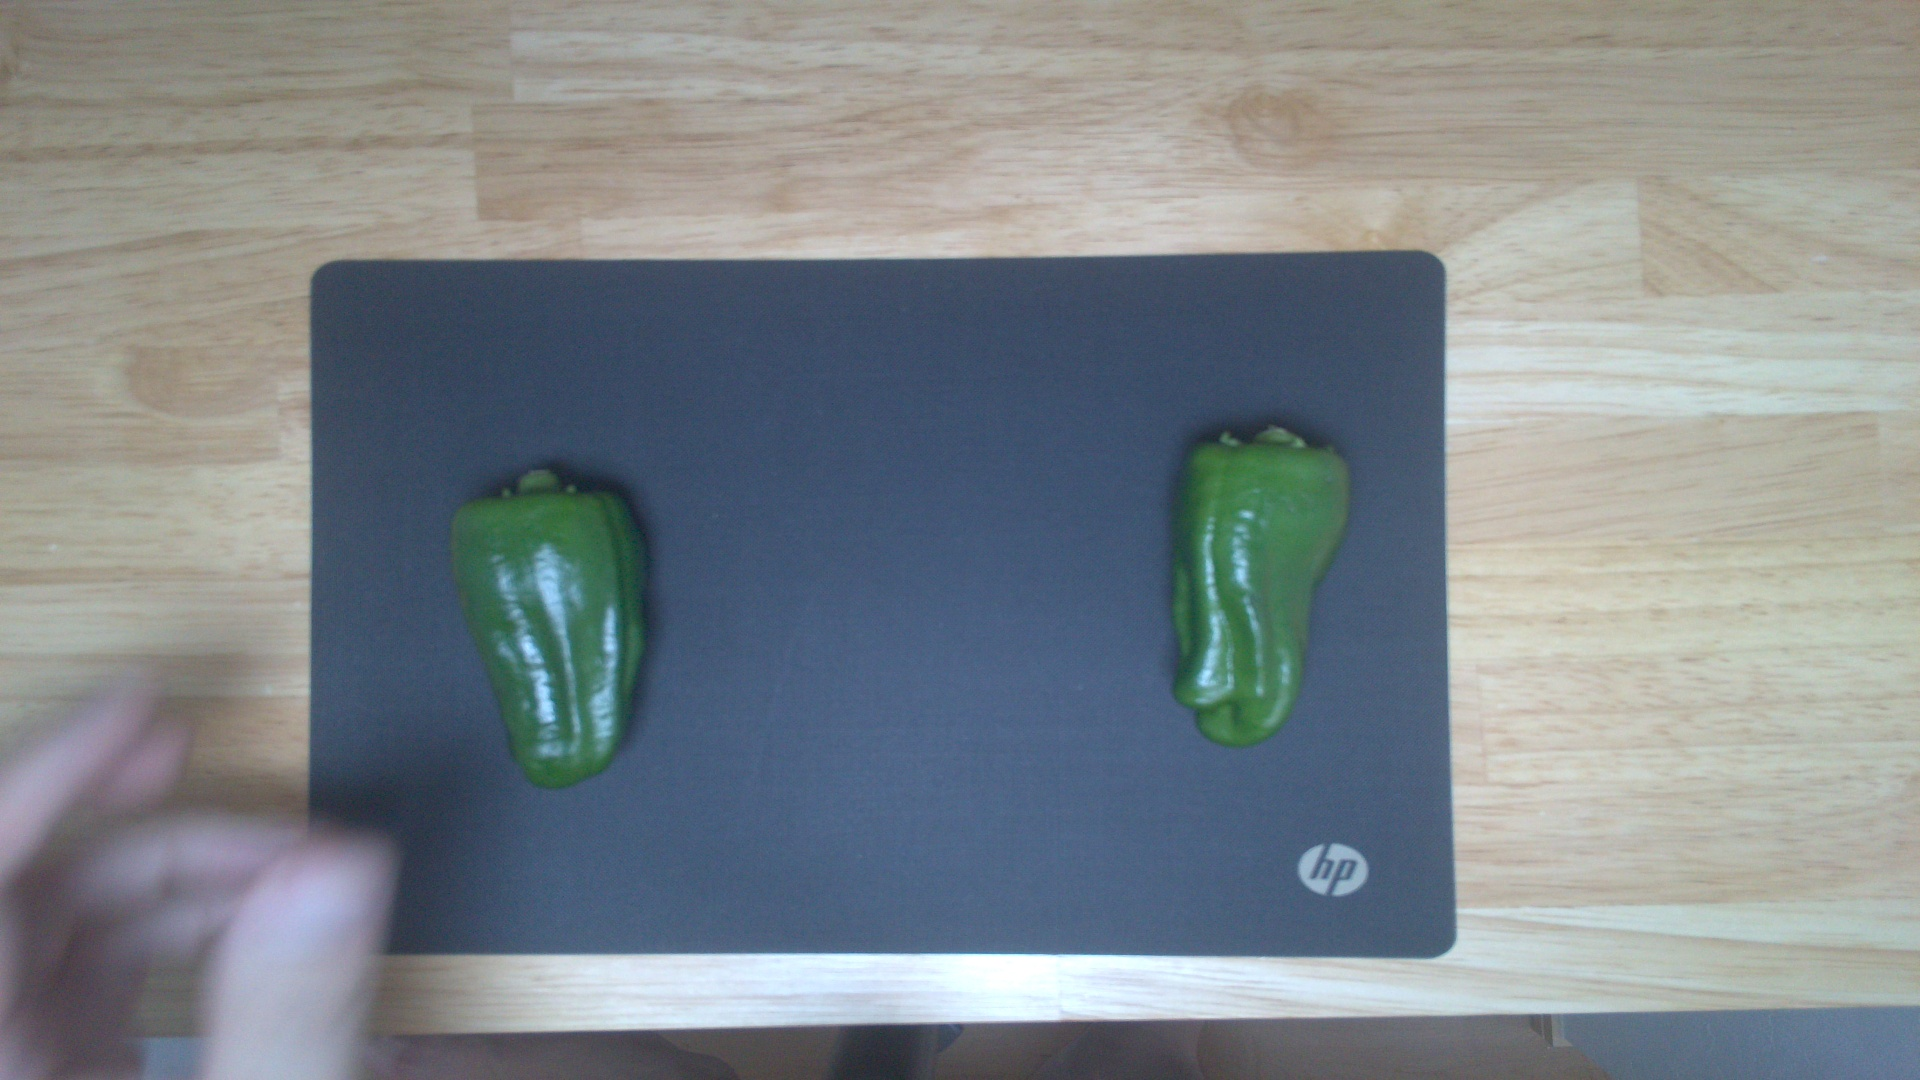Piman: (448, 463, 651, 791), (1162, 426, 1356, 750)
